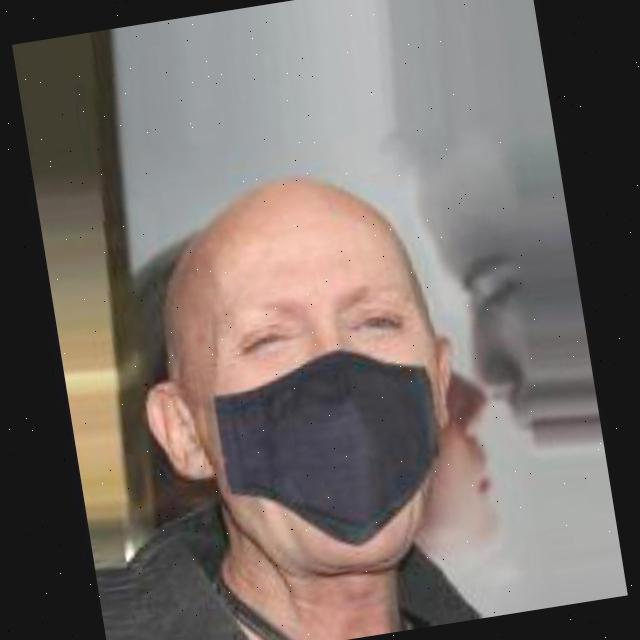suspicion: (121, 132, 482, 593)
